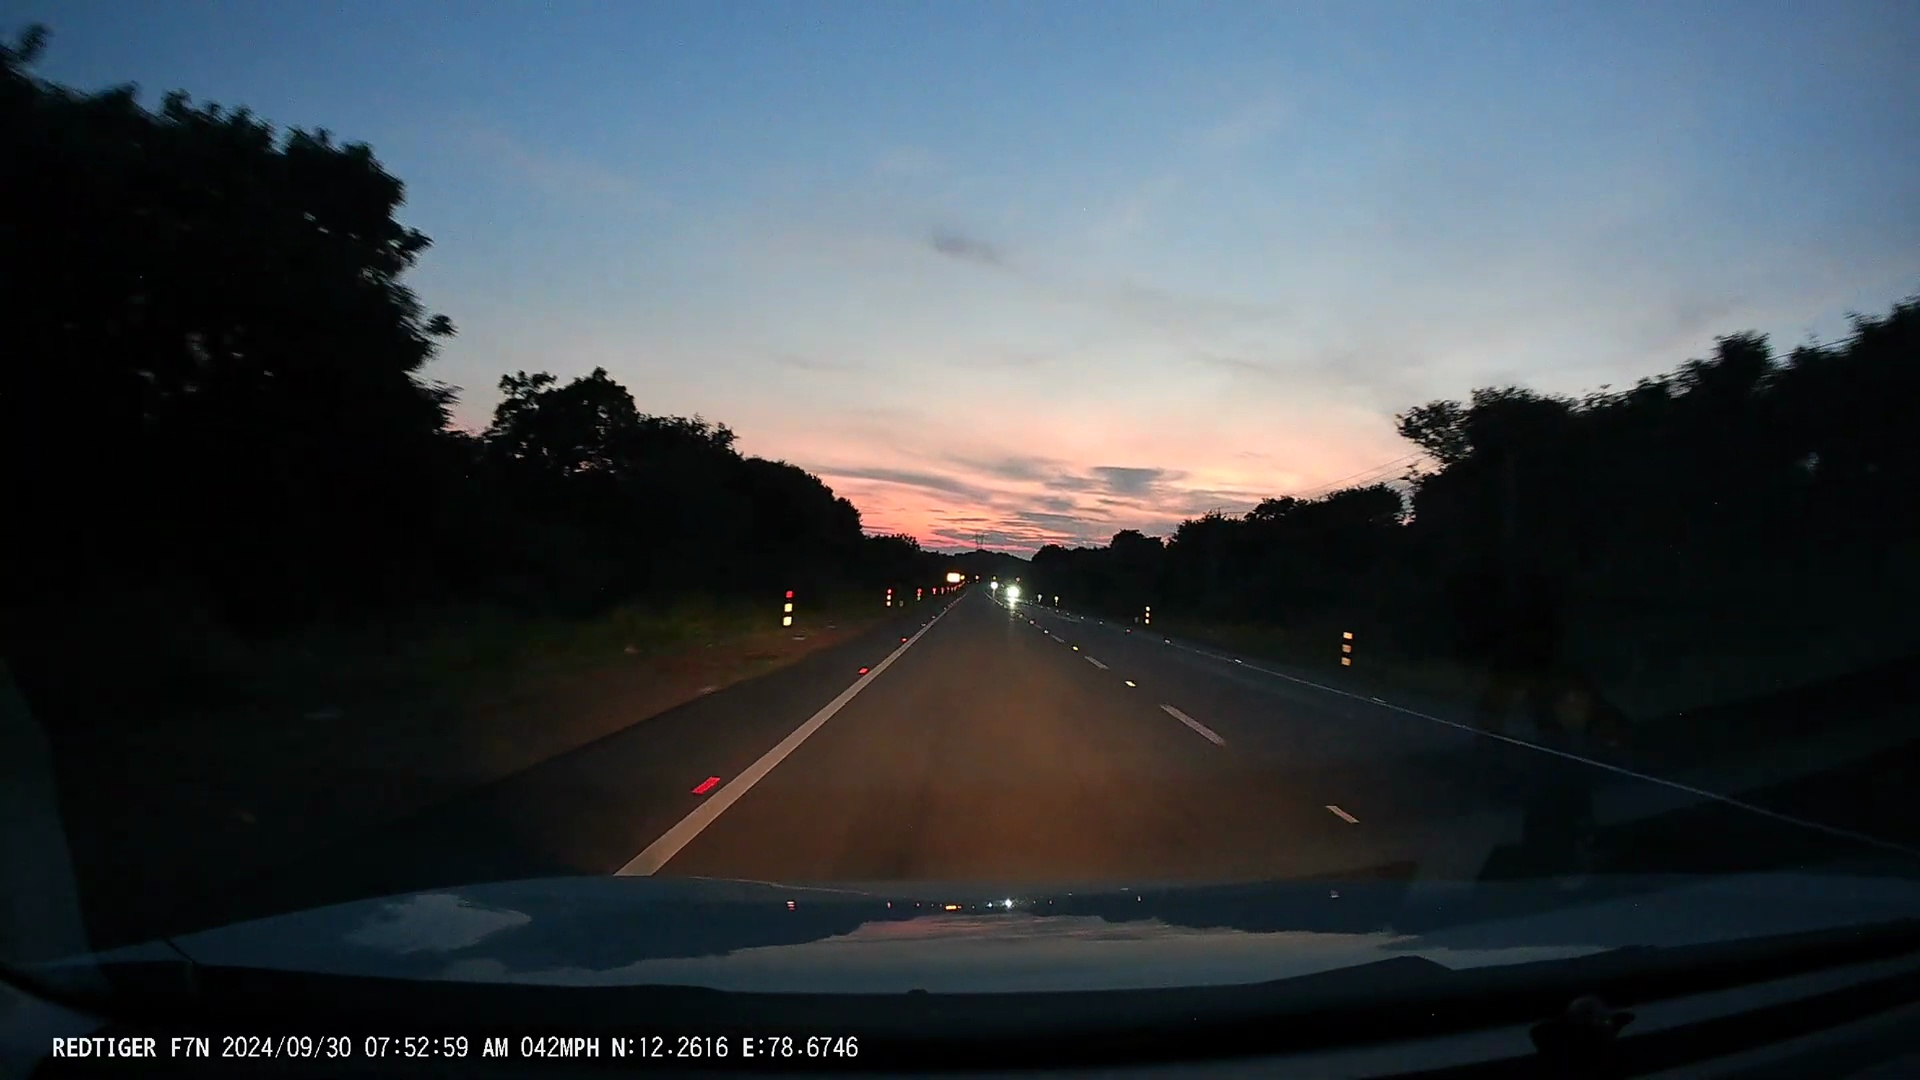headlight: (1006, 585, 1021, 599), (992, 579, 997, 591)
two wheeler: (1002, 574, 1030, 612), (986, 574, 1000, 600)
